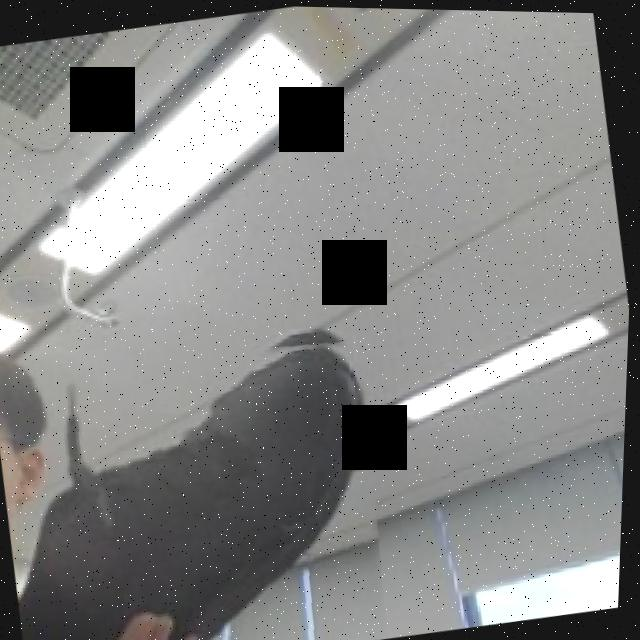shoe: (0, 313, 412, 640)
